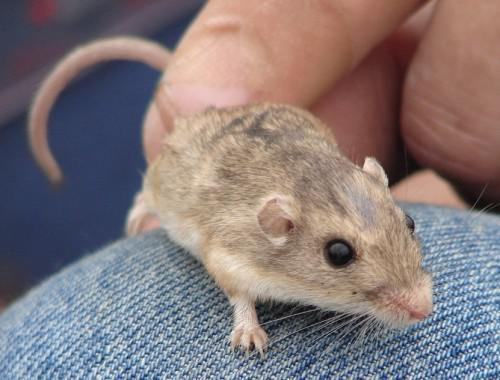rat: (124, 105, 434, 354)
